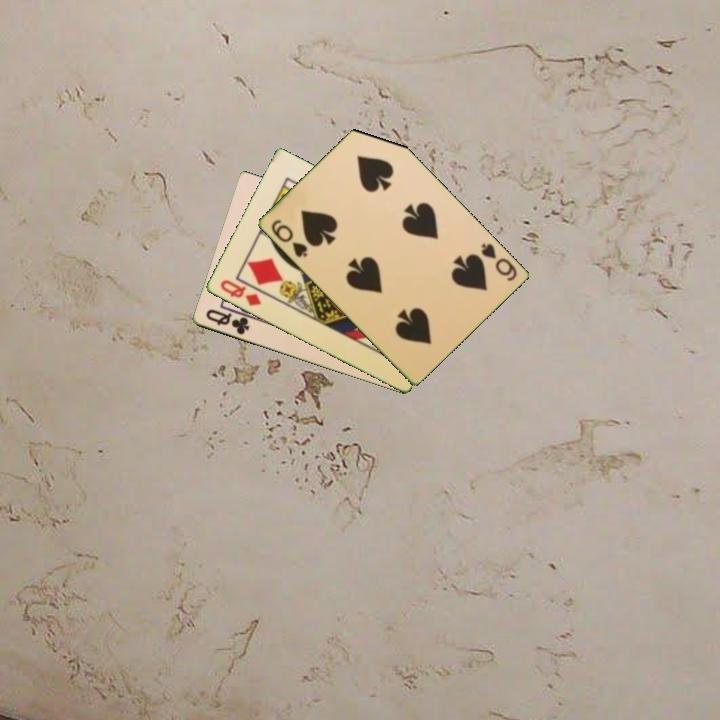6s: (267, 216, 310, 260), (477, 240, 520, 284)
Qc: (202, 306, 252, 338)
Qd: (216, 276, 264, 309)
